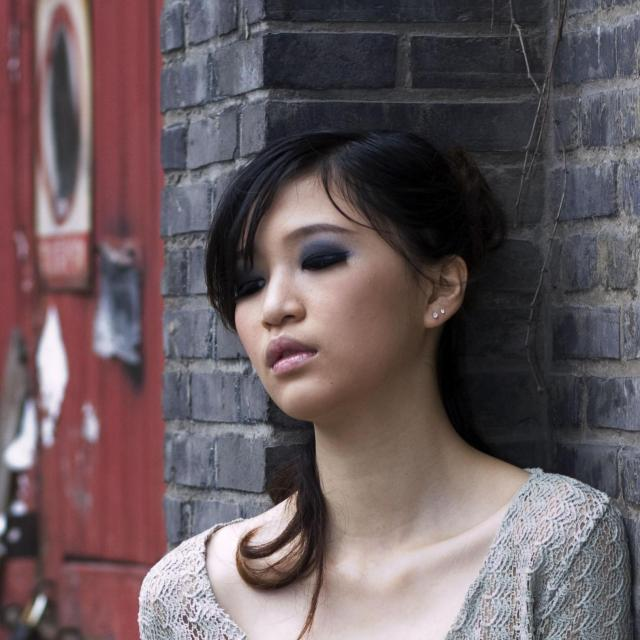no-glass: (234, 244, 350, 298)
